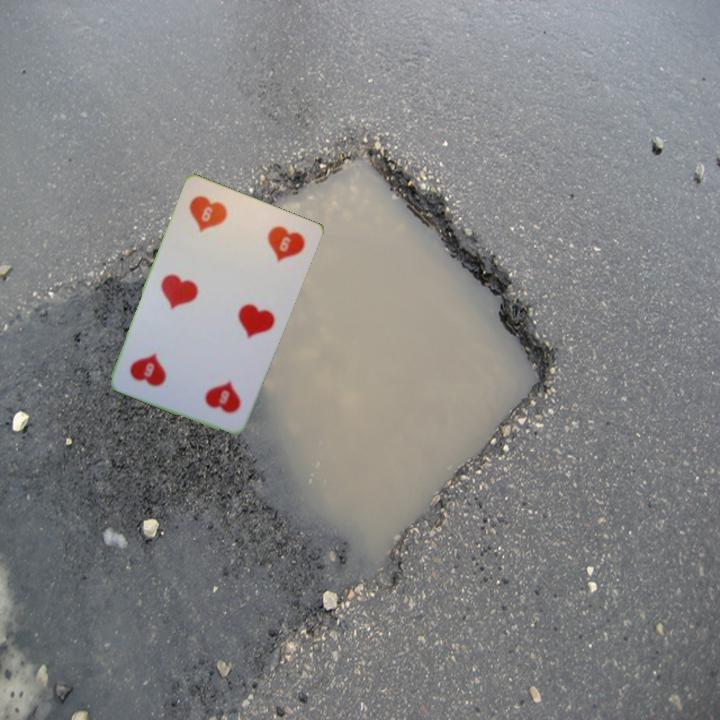h_6.png: (173, 350, 255, 427), (174, 185, 256, 262)
